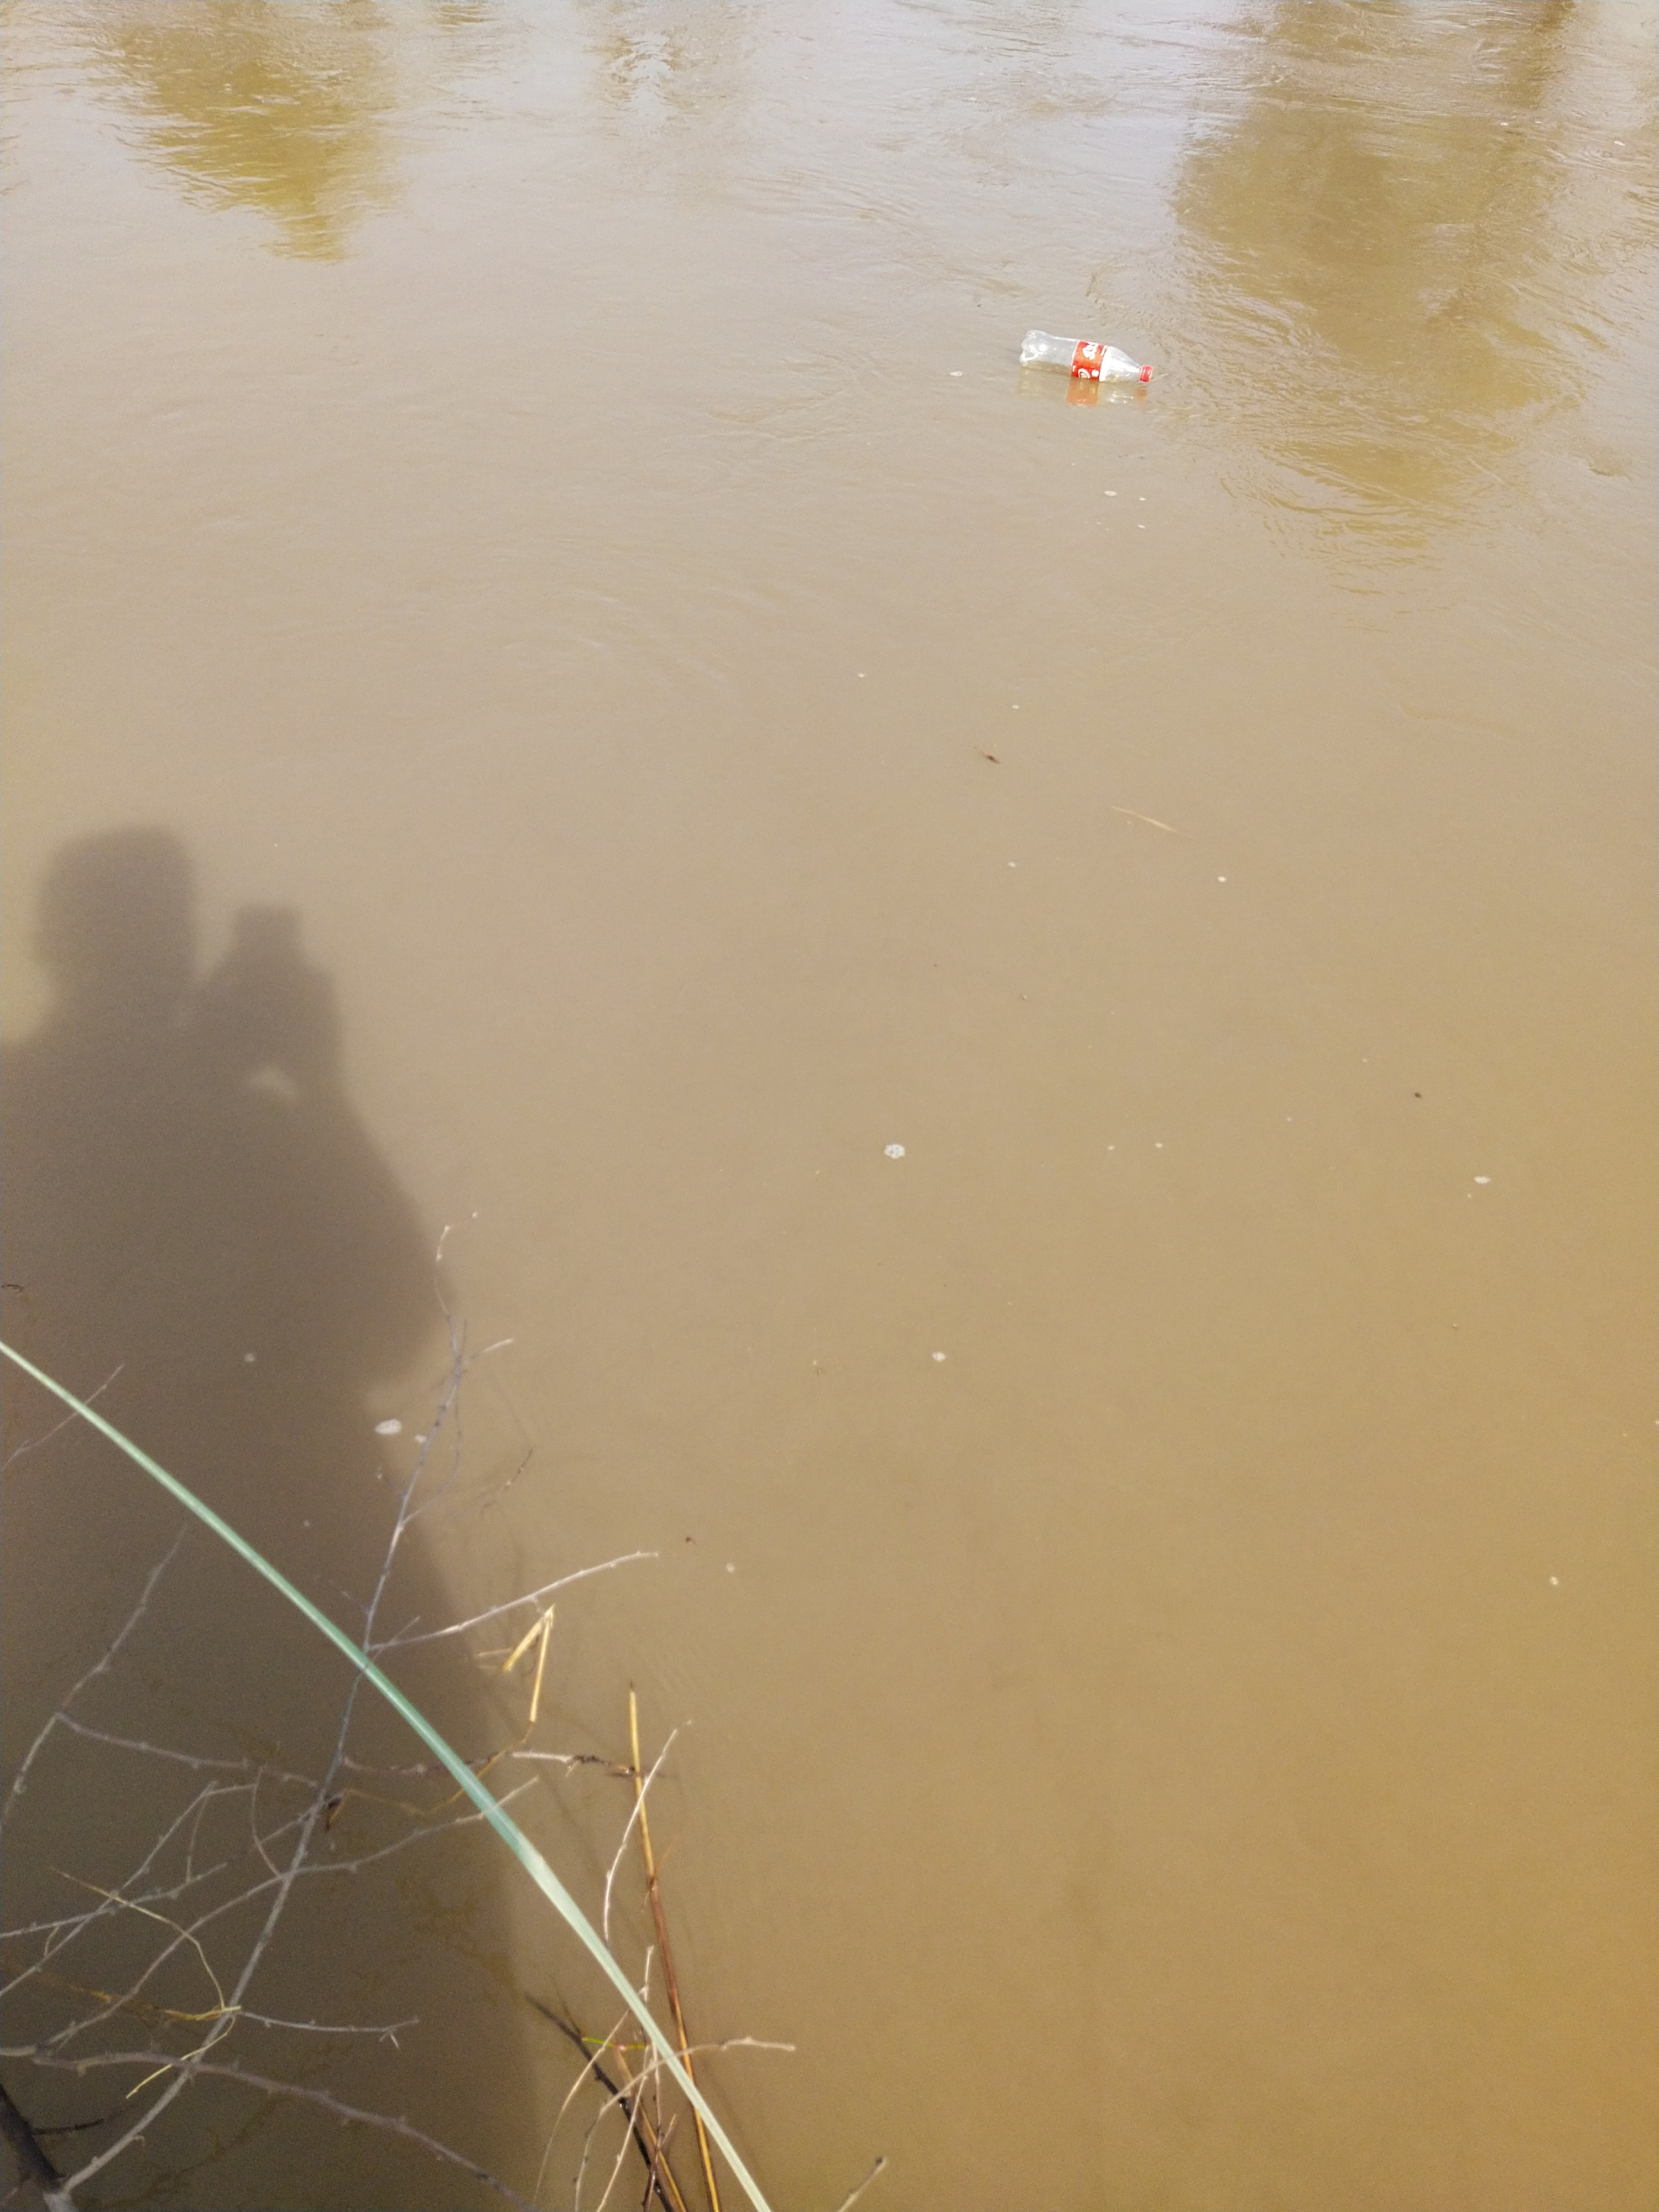Plastic Bottle: (1019, 329, 1154, 383)
